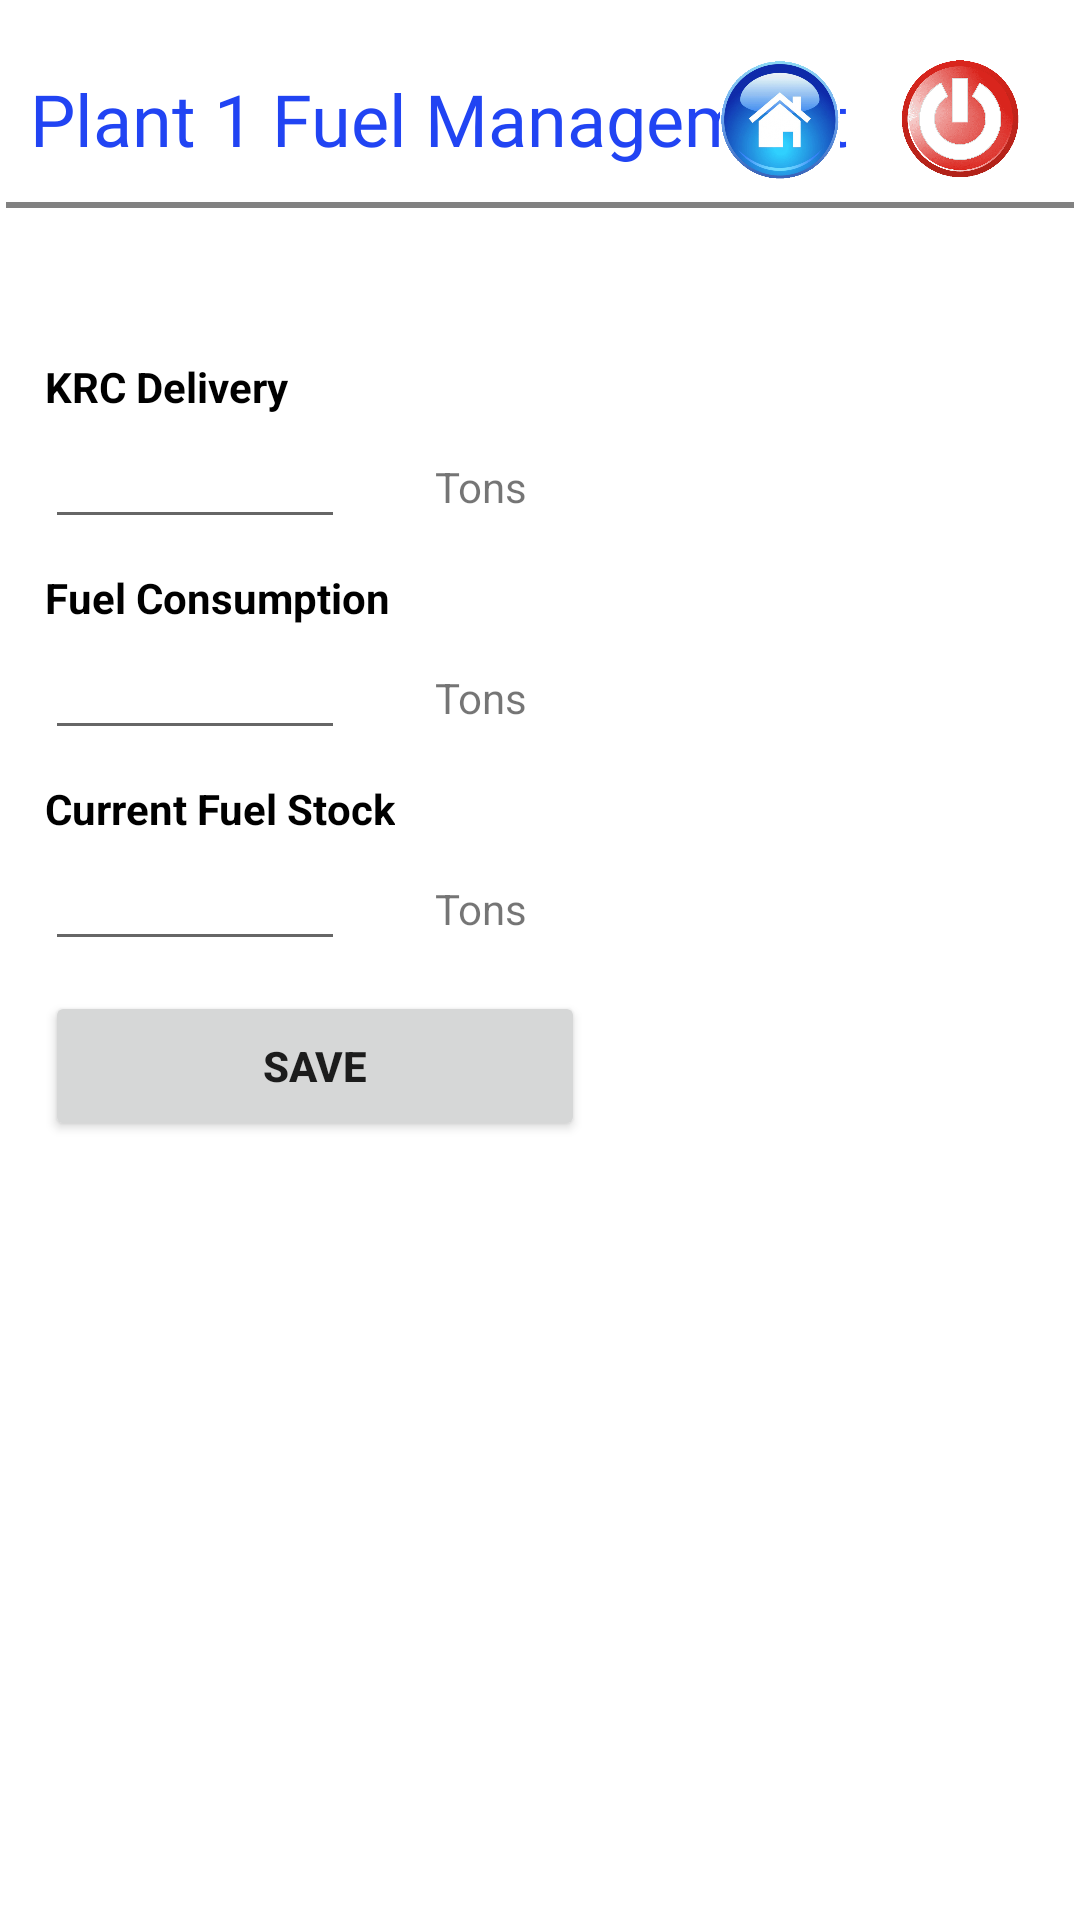

Icons on this 1080×1920 Android screen, each with its box as (x1, y1, x2, y2):
home: (721, 61, 839, 179)
sign out: (902, 60, 1019, 177)
